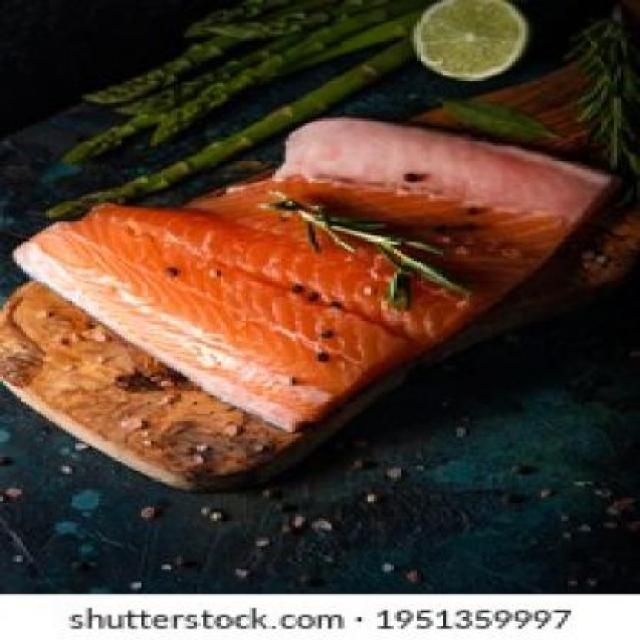salmon: (23, 103, 621, 444)
